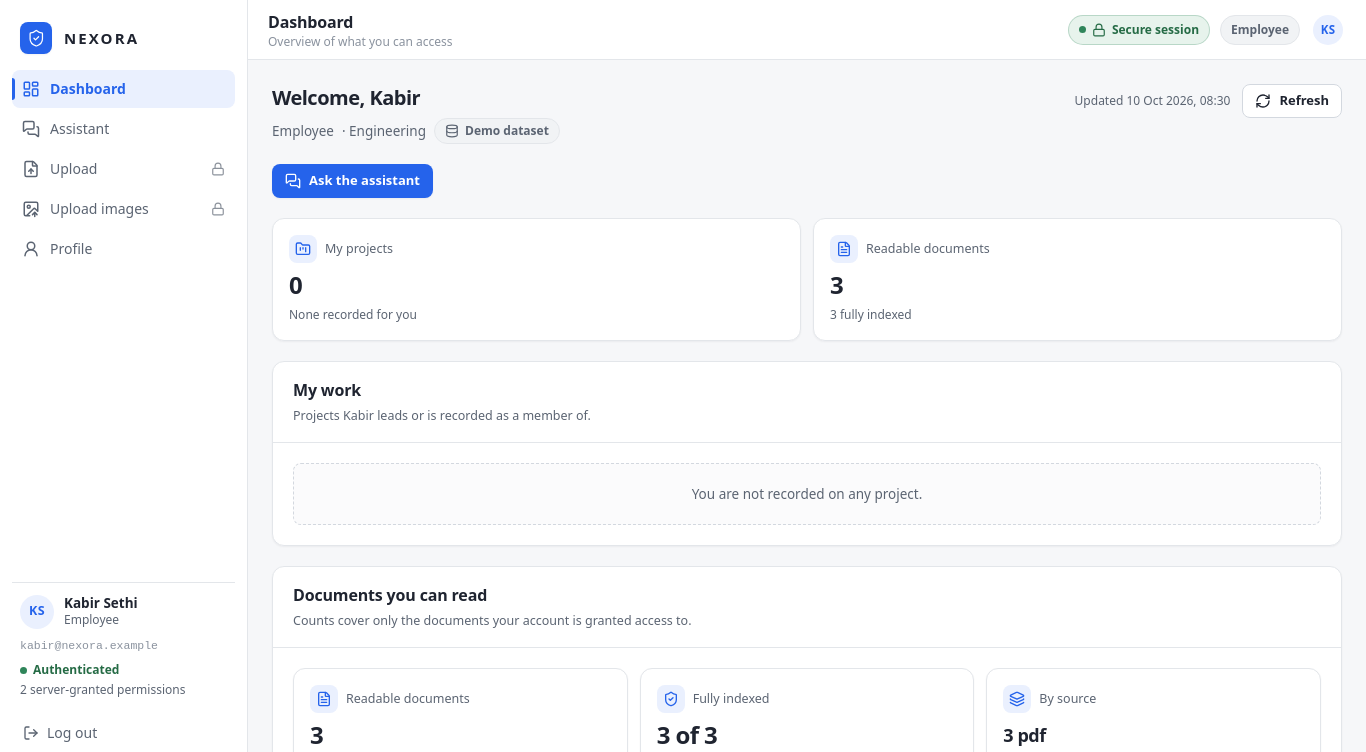
it: dashboard states › refresh keeps the last data on screen and reports a failed refresh
Check: the element "My work" is shown, box [272, 360, 1342, 546]
Click the button with aria-label "Refresh dashboard" at point(1292, 101), box [1242, 84, 1342, 118]
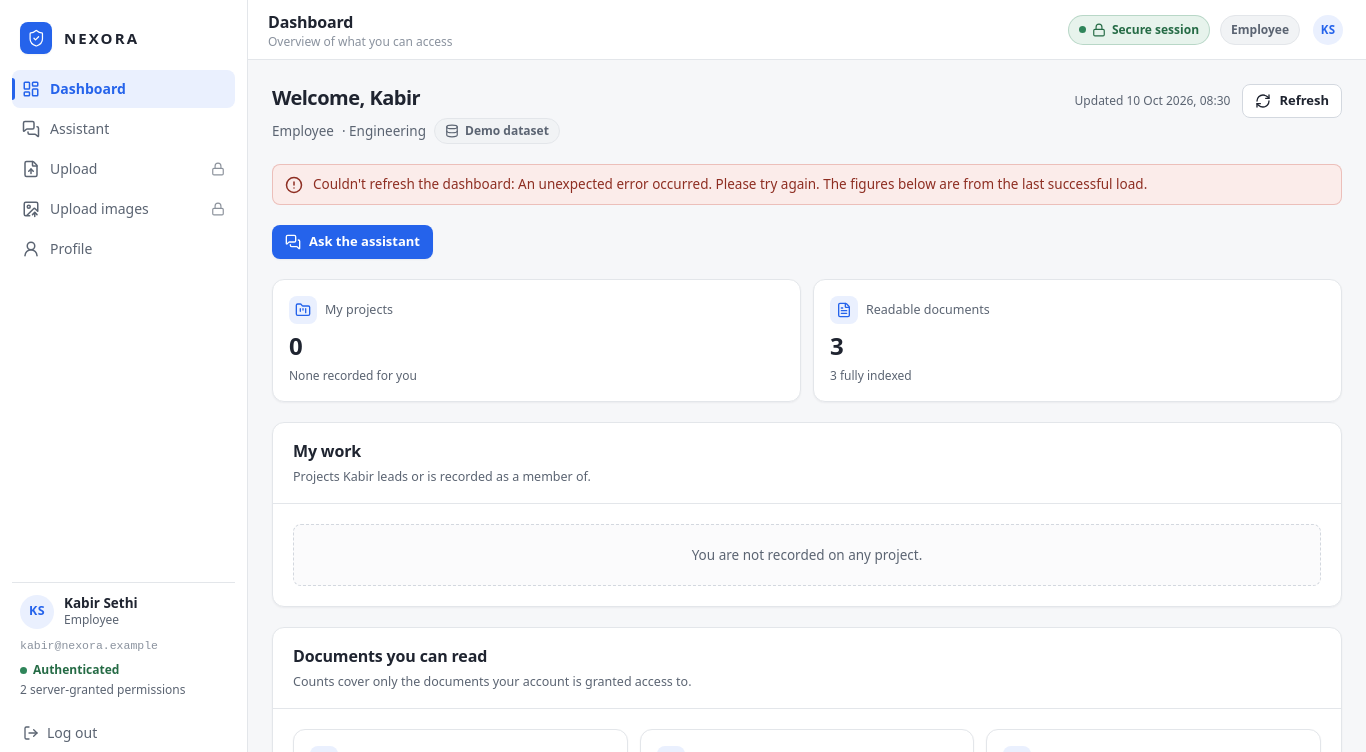
Check: the element "My work" is shown, box [272, 422, 1342, 607]
Check: the message shows "Couldn't refresh the dashboard", box [313, 175, 518, 193]
